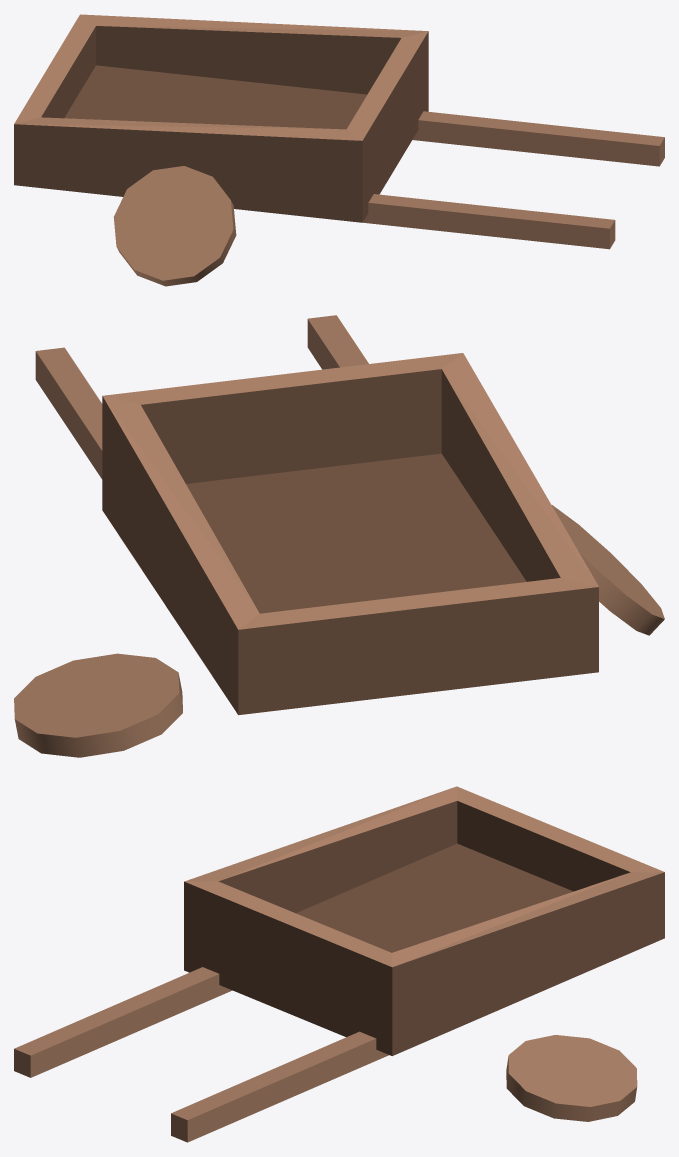
The picture shows the model from 3 angles, top to bottom: view 1: azimuth 30°, elevation 25°; view 2: azimuth 150°, elevation 25°; view 3: azimuth 270°, elevation 25°; orthographic projection. The views are drawn at different scales.
Parts seen in each view (by area): view 1: TC_01; view 2: TC_01; view 3: TC_01.
Part boxes in pixels (x1=…): TC_01: x1=14, y1=14, x2=664, y2=286; TC_01: x1=14, y1=315, x2=664, y2=757; TC_01: x1=14, y1=786, x2=664, y2=1142.
Bounding box in the file's own units: 1.88 × 0.5405 × 1.86.
